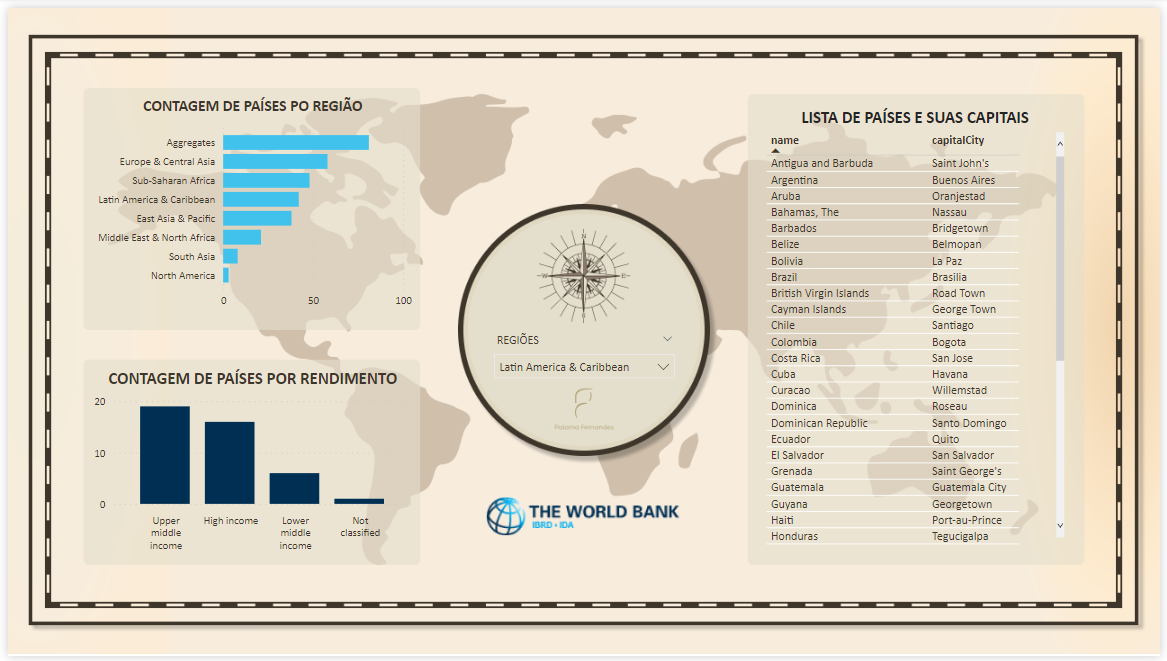

The page's visual inventory and layout, read from the dashboard file:
{"tool":"powerbi","page":{"name":"Página 1","canvas":[1280,720],"ordinal":0},"visuals":[{"type":"barChart","title":"CONTAGEM DE PAÍSES PO REGIÃO","fields":{"Category":["Region.region_name"],"Y":["CountNonNull(Country.name)"]},"box":[89.5,98.2,363.8,243.2],"z":0},{"type":"columnChart","title":"CONTAGEM DE PAÍSES POR RENDIMENTO","fields":{"Category":["IncomeLevel.level_name"],"Y":["CountNonNull(Country.name)"]},"box":[89.5,399.8,363.8,212],"z":1000},{"type":"tableEx","title":"LISTA DE PAÍSES E SUAS CAPITAIS","fields":{"Values":["Country.name","Country.capitalCity"]},"box":[836.5,109.9,342.4,492.2],"z":2000},{"type":"slicer","fields":{"Values":["Region.region_name"]},"box":[530.1,356,220.8,58.4],"z":3000},{"type":"card","fields":{"Values":["_Medidas.Message"]},"box":[836.5,134.2,342.4,467.8],"z":3002}]}

Visuals, with their boxes in screenshot pixels (x1, y1, x2, y2), scaled from the page's 1280x720 canvas onto the 1167x661 screenshot:
"CONTAGEM DE PAÍSES PO REGIÃO" barChart: (left=82, top=90, right=413, bottom=313)
"CONTAGEM DE PAÍSES POR RENDIMENTO" columnChart: (left=82, top=367, right=413, bottom=562)
"LISTA DE PAÍSES E SUAS CAPITAIS" tableEx: (left=763, top=101, right=1075, bottom=553)
slicer - Region.region_name: (left=483, top=327, right=685, bottom=380)
card - _Medidas.Message: (left=763, top=123, right=1075, bottom=553)
